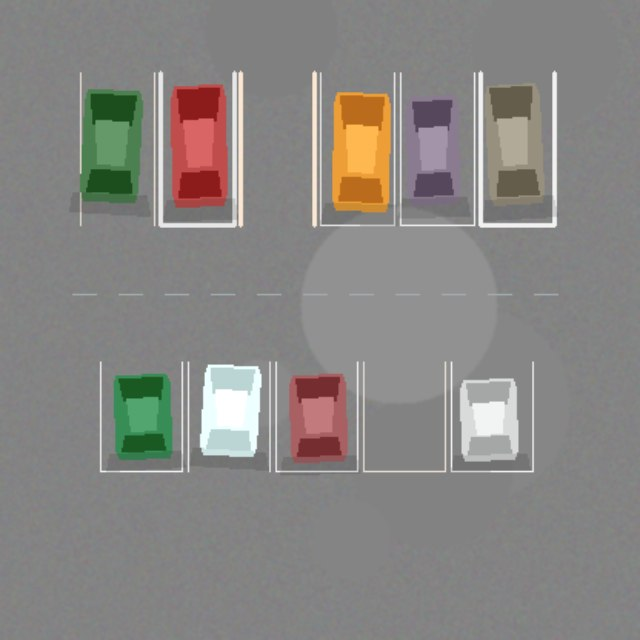space-empty: (240, 72, 314, 225), (363, 362, 445, 471)
space-occupied: (80, 72, 154, 225), (160, 72, 234, 225), (320, 72, 394, 225), (400, 72, 474, 225), (480, 72, 554, 225), (100, 362, 182, 471), (275, 362, 357, 471), (188, 362, 269, 471), (451, 362, 532, 471)
